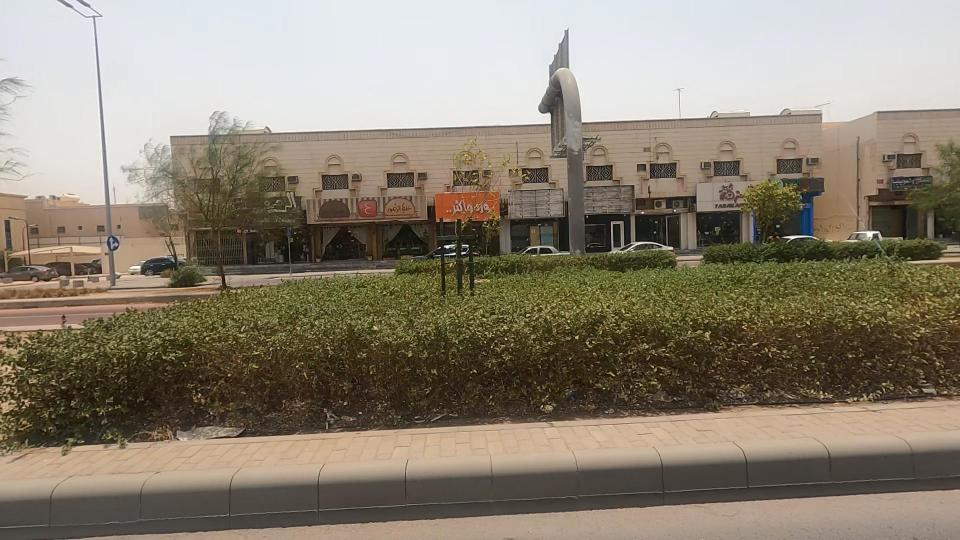BAD_BILLBOARD: (458, 157, 607, 255), (544, 156, 672, 245)
